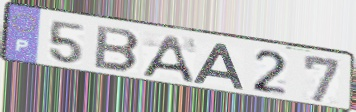2: (253, 49, 289, 98)
5: (48, 19, 87, 65)
7: (302, 52, 343, 105)
A: (139, 34, 197, 85), (191, 41, 246, 91)
B: (92, 24, 143, 74)
